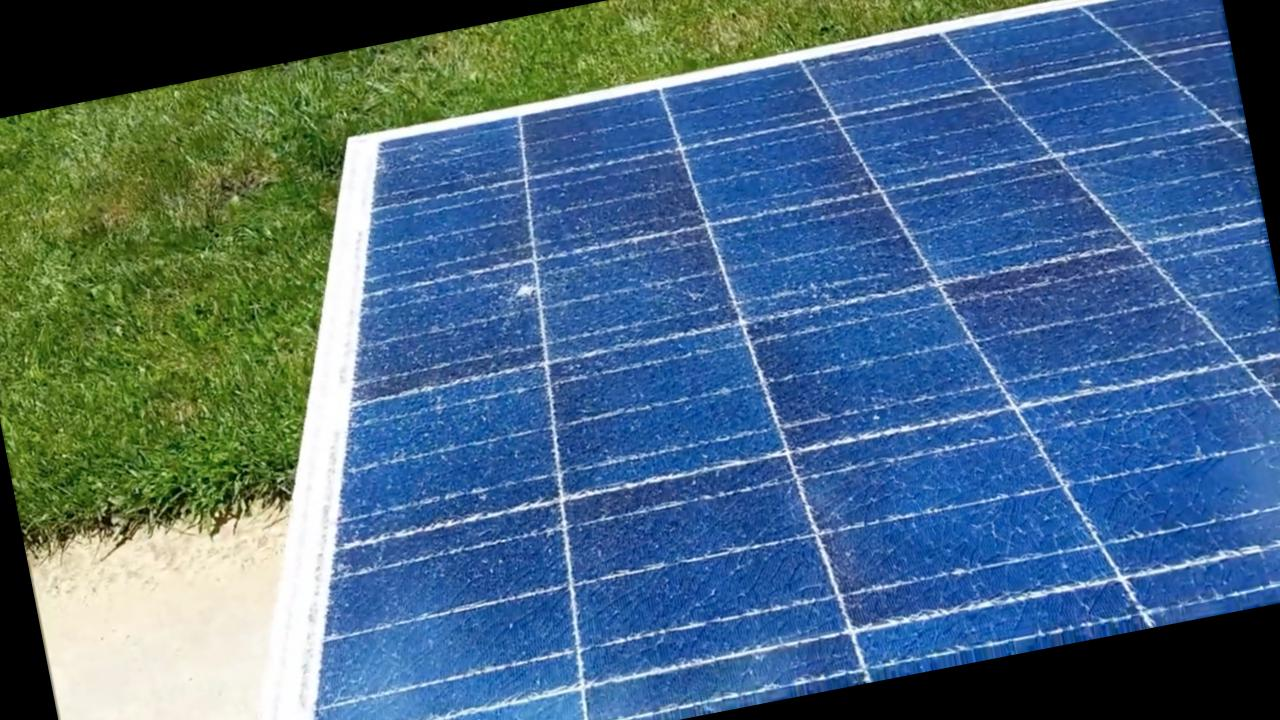Crack: (379, 0, 1279, 719), (491, 258, 565, 324)
